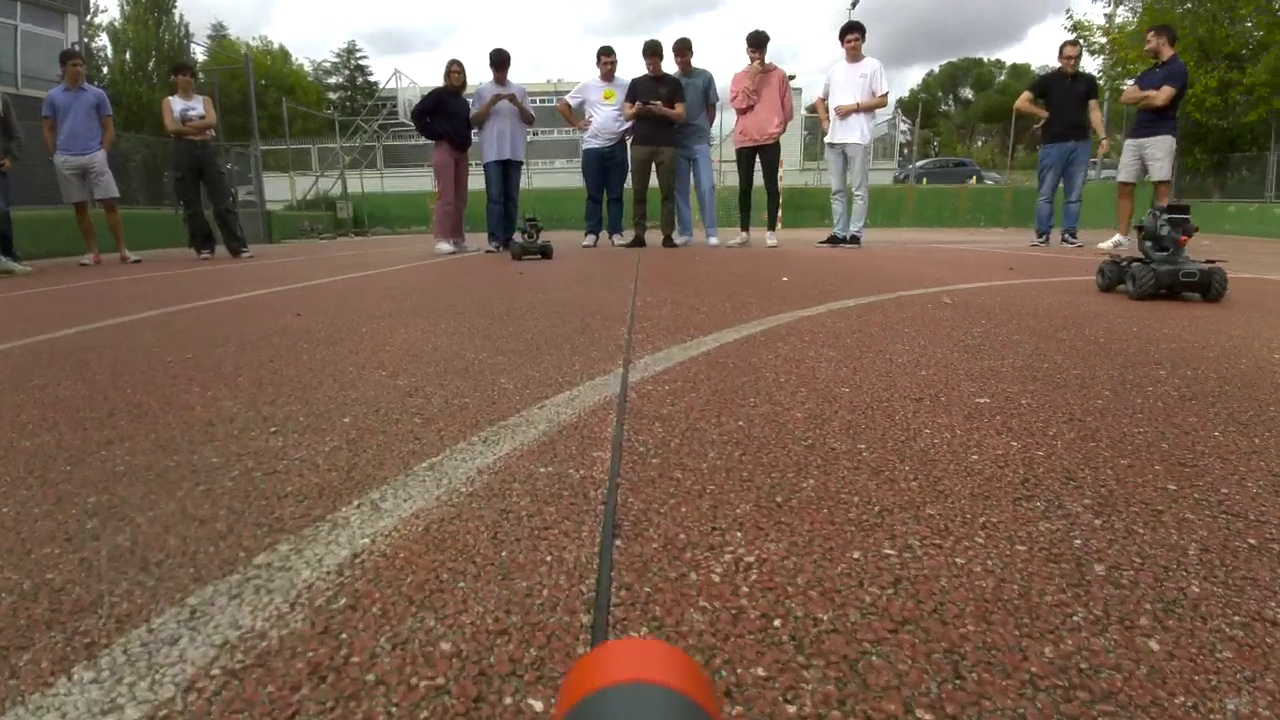robot: (1097, 201, 1225, 303), (509, 217, 554, 260)
